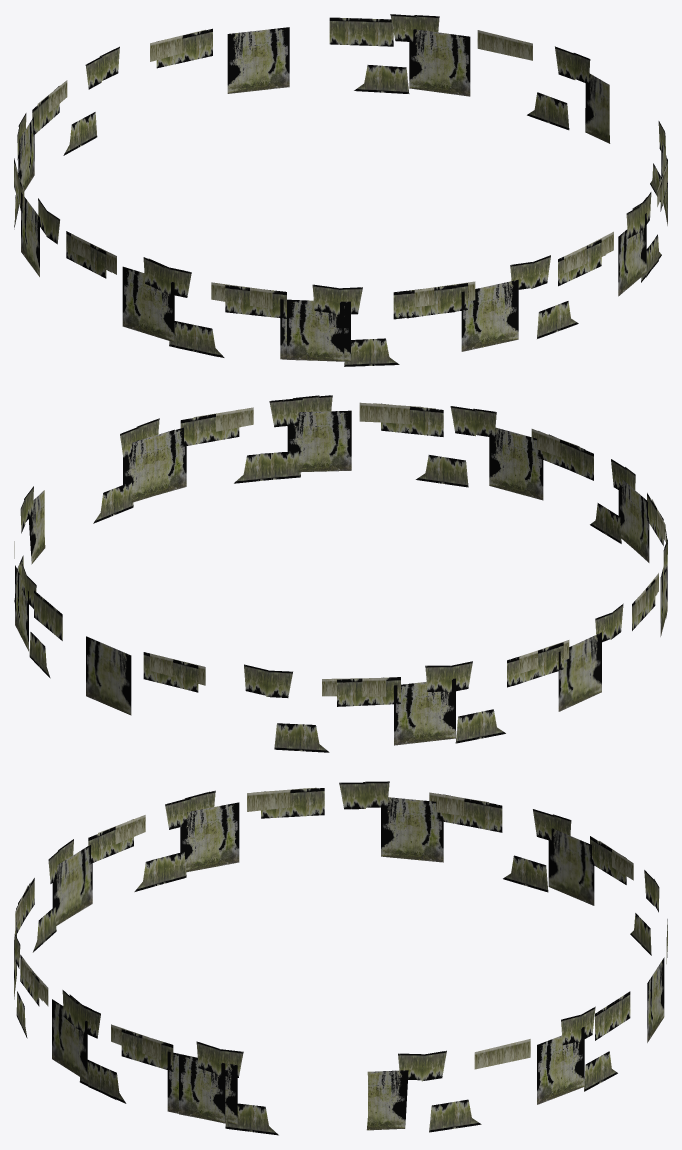
File: arena_moss2.fbx
The picture shows the model from 3 angles, top to bottom: view 1: azimuth 30°, elevation 25°; view 2: azimuth 150°, elevation 25°; view 3: azimuth 270°, elevation 25°; orthographic projection.
Visible parts, largest first — view 1: Circle.034; view 2: Circle.034; view 3: Circle.034.
Boxes of the visible parts, box(x1,y1,x2,y2) form: Circle.034: box(14, 14, 667, 366); Circle.034: box(14, 395, 667, 752); Circle.034: box(14, 781, 667, 1135).
Bounding box in the file's own units: 1994 × 275 × 1995.
